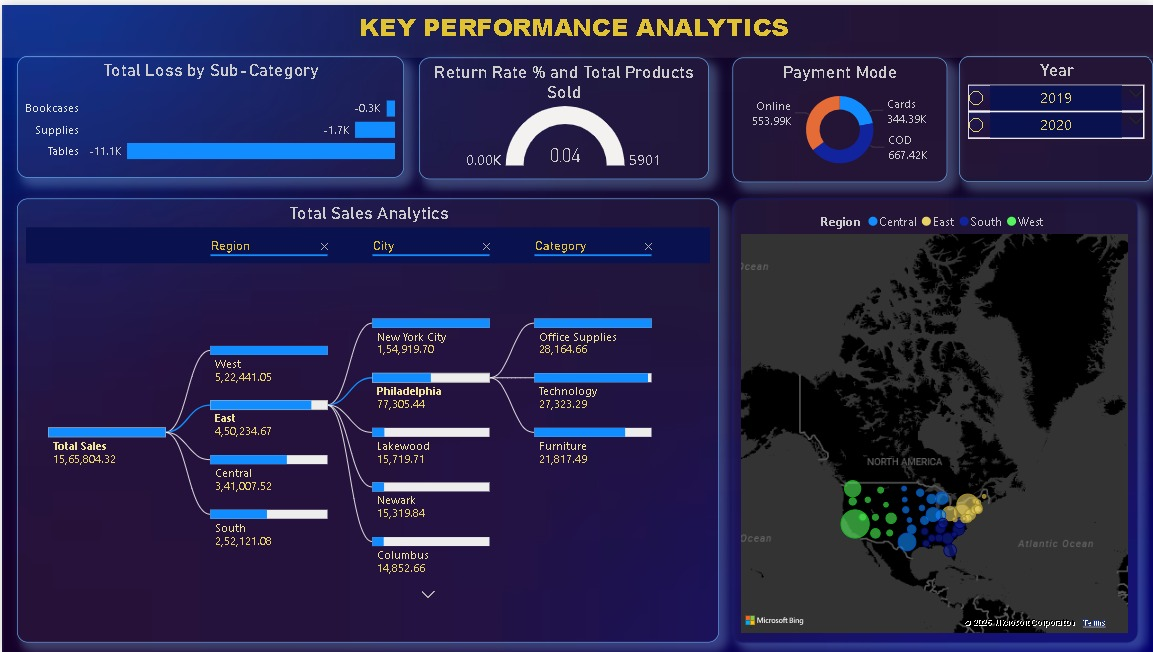

The dashboard page shown, as its layout file describes it:
{"tool":"powerbi","page":{"name":"PERFORMANCE","canvas":[1280,720],"ordinal":1},"visuals":[{"type":"map","title":"Total  Sales & Profit by State/Region","fields":{"Size":["Sum(SuperStore_Sales_Dataset.Sales)"],"Series":["SuperStore_Sales_Dataset.Region"],"Category":["SuperStore_Sales_Dataset.State"]},"box":[811.7,215,450,493.3],"z":0},{"type":"decompositionTreeVisual","title":"Total Sales Analytics ","fields":{"Analyze":["Sum(SuperStore_Sales_Dataset.Sales)"],"ExplainBy":["SuperStore_Sales_Dataset.Region","SuperStore_Sales_Dataset.City","SuperStore_Sales_Dataset.Category"]},"box":[16.7,215,780,493.3],"z":1000},{"type":"listSlicer","fields":{"Values":["SuperStore_Sales_Dataset.Order Date.Variation.Date Hierarchy.Year","SuperStore_Sales_Dataset.Order Date.Variation.Date Hierarchy.Month"]},"box":[1063.3,56.7,216.7,140],"z":2000},{"type":"donutChart","title":" Payment Mode","fields":{"Y":["Sum(SuperStore_Sales_Dataset.Sales)"],"Series":["SuperStore_Sales_Dataset.Payment Mode"]},"box":[811.7,58.3,238.3,138.3],"z":3000},{"type":"gauge","fields":{"Y":["SuperStore_Sales_Dataset.Return Rate %"],"MaxValue":["SuperStore_Sales_Dataset.Total Products Sold"]},"box":[463.3,58.3,321.7,135],"z":4000},{"type":"clusteredBarChart","fields":{"Category":["SuperStore_Sales_Dataset.Sub-Category"],"Y":["SuperStore_Sales_Dataset.Total Loss"]},"box":[16.7,56.7,430,135],"z":5000},{"type":"textbox","box":[0,0,1280,58.3],"z":5001}]}

Visuals, with their boxes in screenshot pixels (x1, y1, x2, y2), scaled from the page's 1280x720 canvas onto the 1153x652 screenshot:
"Total  Sales & Profit by State/Region" map: <region>731, 195, 1137, 641</region>
"Total Sales Analytics " decompositionTreeVisual: <region>15, 195, 718, 641</region>
listSlicer - SuperStore_Sales_Dataset.Order Date.Variation.Date Hierarchy.Year x SuperStore_Sales_Dataset.Order Date.Variation.Date Hierarchy.Month: <region>958, 51, 1152, 178</region>
" Payment Mode" donutChart: <region>731, 53, 946, 178</region>
gauge - SuperStore_Sales_Dataset.Return Rate % x SuperStore_Sales_Dataset.Total Products Sold: <region>417, 53, 707, 175</region>
clusteredBarChart - SuperStore_Sales_Dataset.Sub-Category x SuperStore_Sales_Dataset.Total Loss: <region>15, 51, 402, 174</region>
textbox: <region>0, 0, 1152, 53</region>
